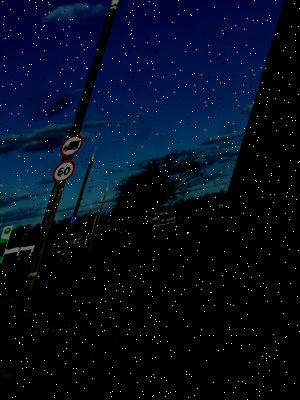Speed Limit -60-: (59, 159, 90, 190)
